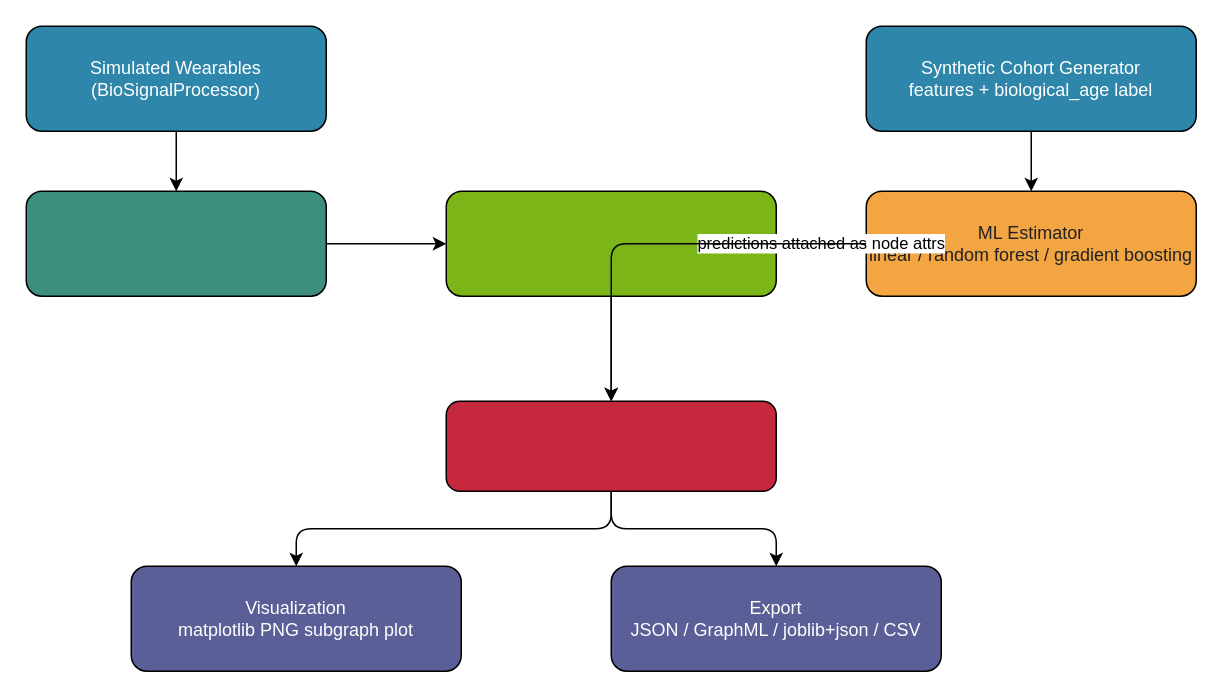
The diagram is 1223 pixels wide and 698 high, and some of its shapes have lost their labels. Here are the shapes that lost their labels. From the top down, the centre of each, then its label:
At [175,243]: "Signal Processing circadian model, clipping".
At [610,243]: "Knowledge Graph Person -> BiometricData -> EnvironmentalFactor".
At [610,445]: "Intervention Suggestion rule-based focus-area heuristic".
